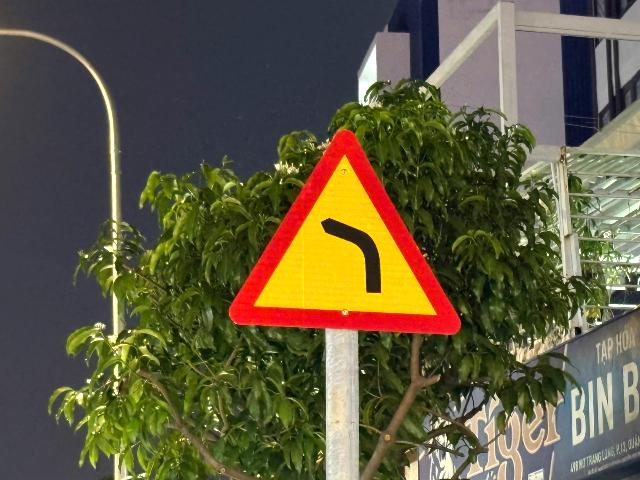cho-ngoat-nguy-hiem-ben-trai: (228, 126, 461, 336)
